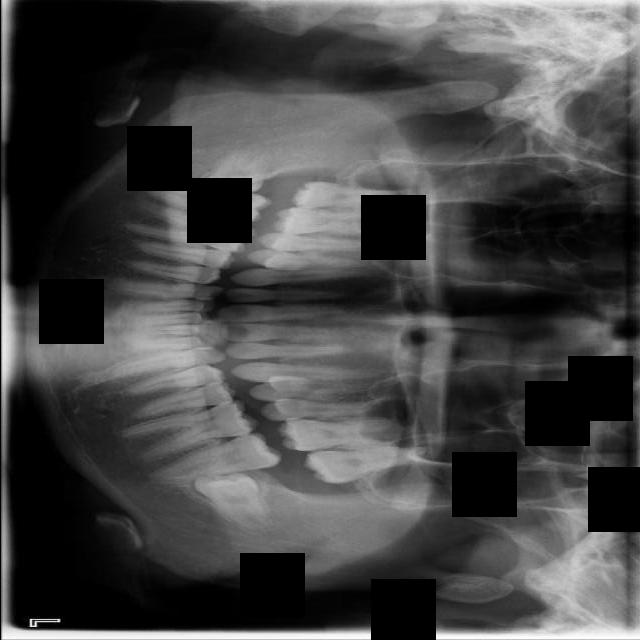73: (69, 603, 83, 606)
BioHorizons Implant: (303, 445, 430, 486)
Biomet 3i Implant: (188, 449, 286, 543)
Blue Sky Bio Implant: (142, 427, 285, 489)
Caries: (289, 180, 400, 209)
Implant: (143, 182, 271, 225)
Keystone Dental Implant: (202, 150, 272, 196)
